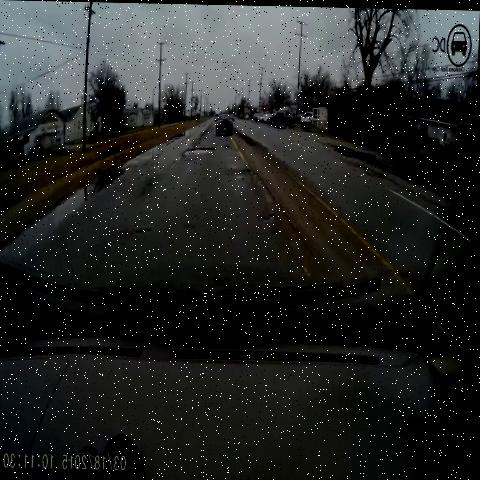pothole: (170, 137, 226, 171), (256, 194, 282, 237), (238, 157, 266, 189), (130, 220, 158, 241)
